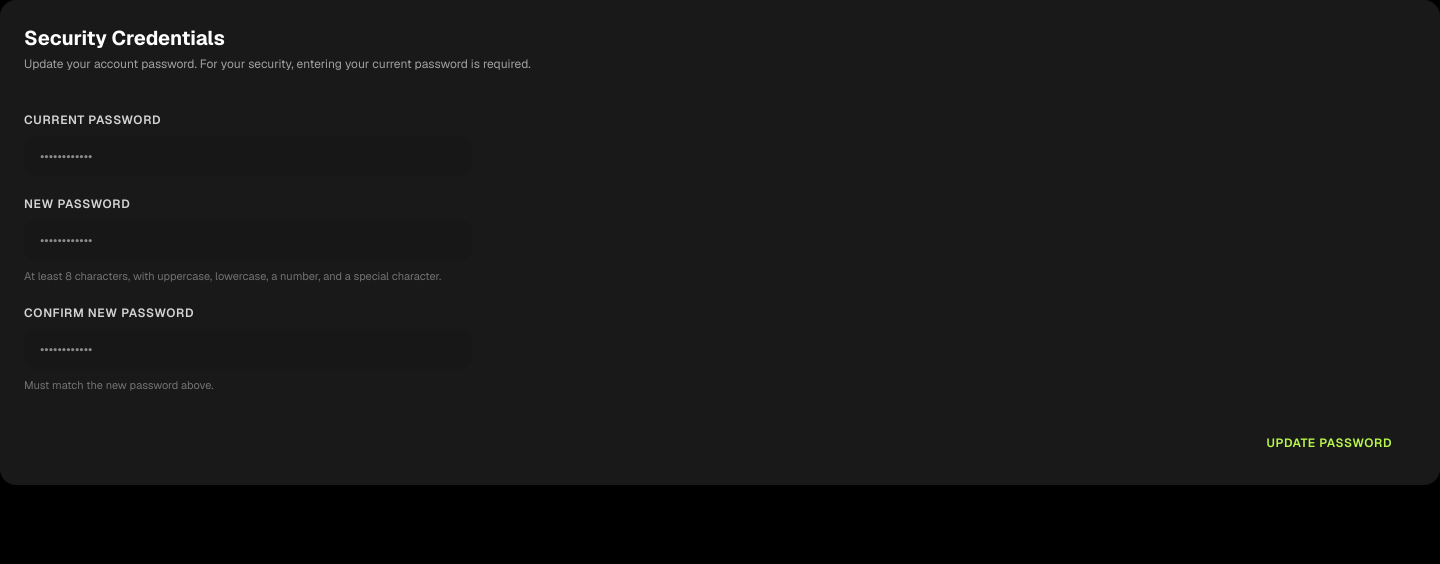
Scenario: ProfileSecuritySettings › renders error banner when updatePassword rejects
In the password field labelled "Current Password": (248, 156) x1=24 y1=136 x2=472 y2=176, type "Wrong1!"
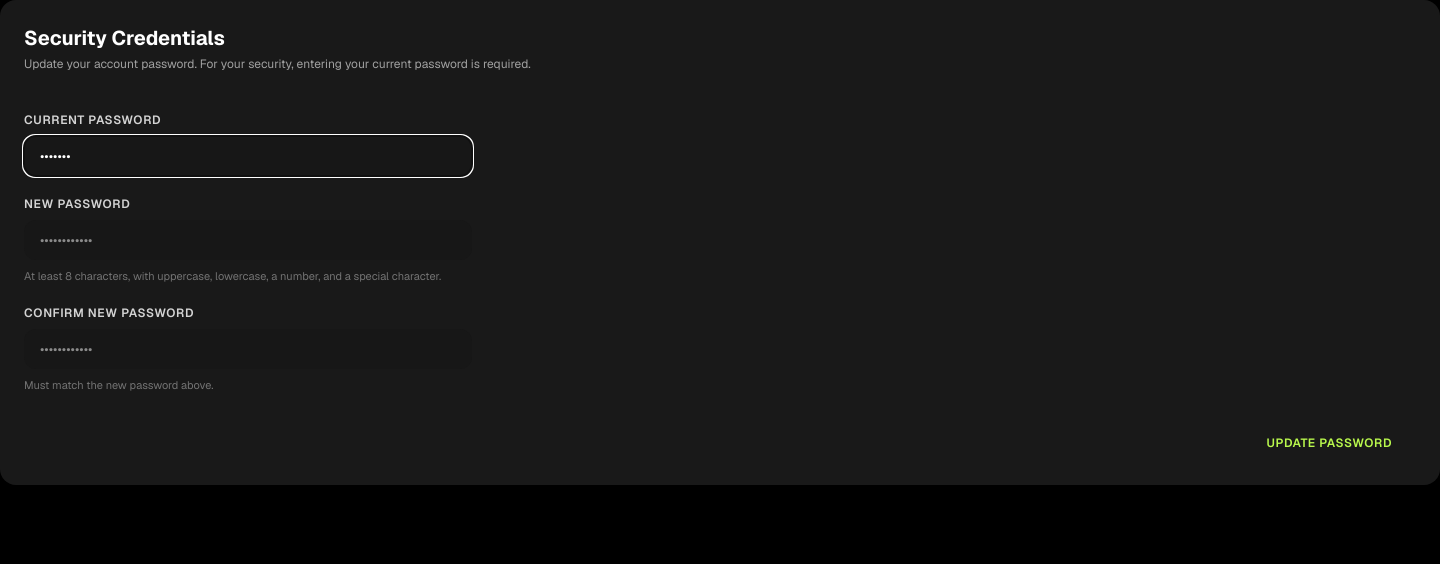
In the password field labelled "New Password": (248, 240) x1=24 y1=220 x2=472 y2=260, type "StrongPass1!"
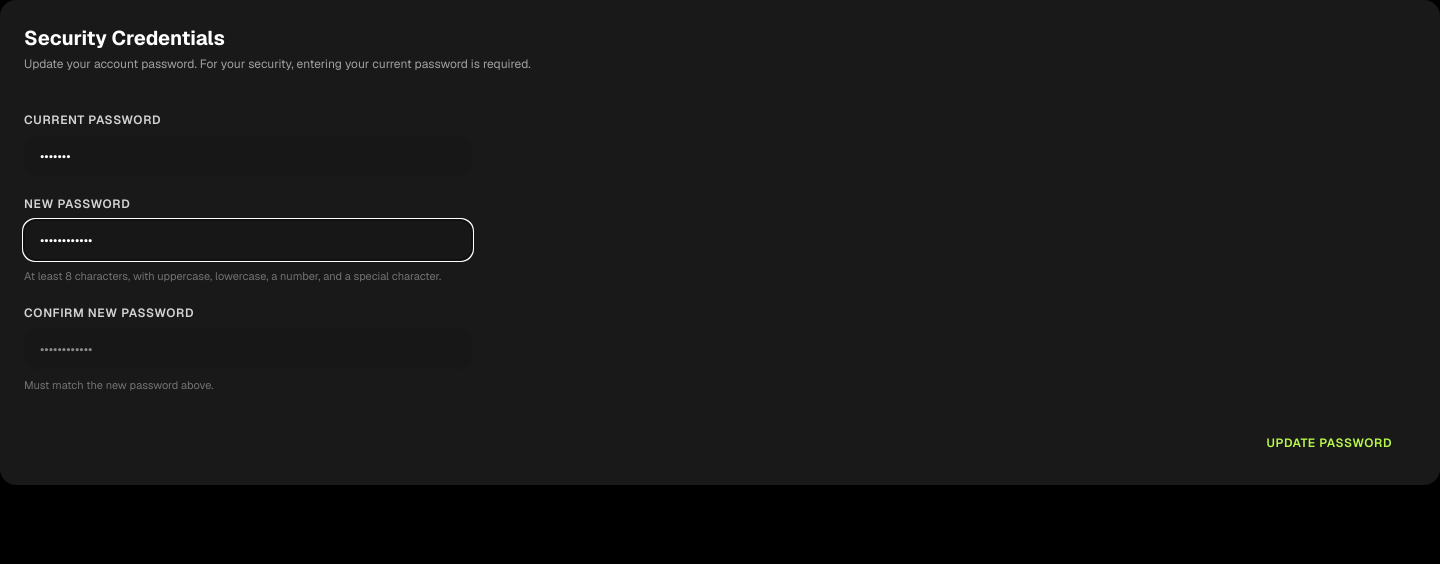
In the password field labelled "Confirm New Password": (248, 348) x1=24 y1=328 x2=472 y2=368, type "StrongPass1!"
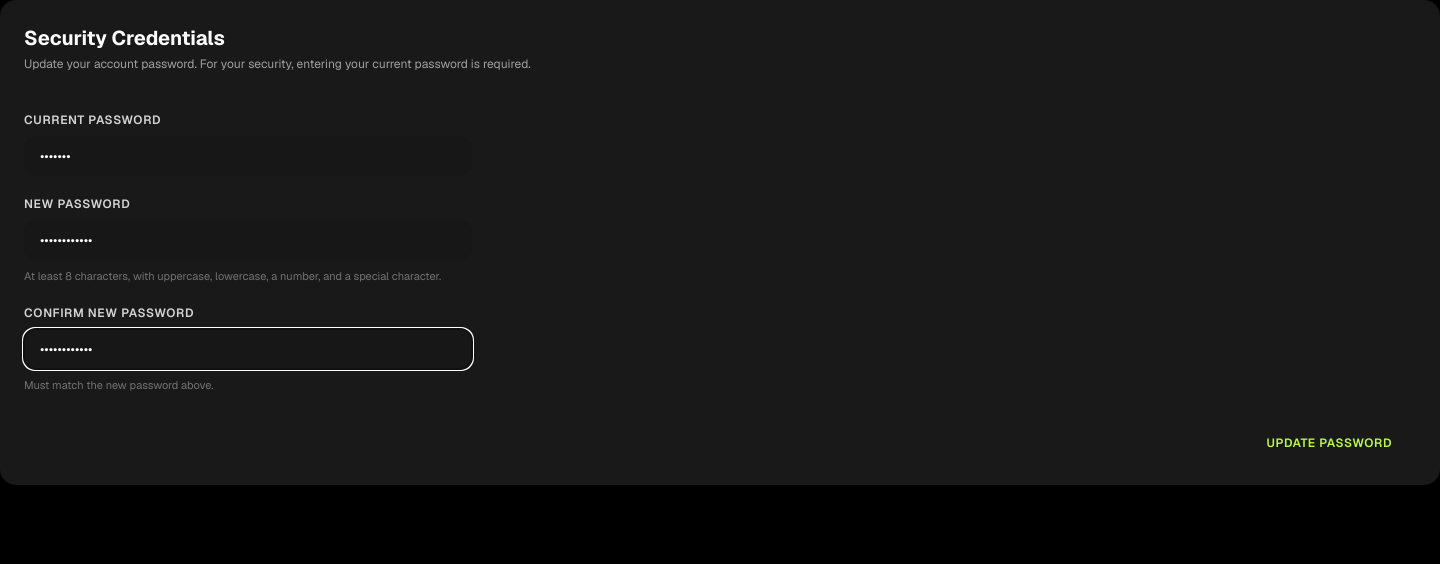
Click the button "Update Password": click(1329, 443) x1=1242 y1=425 x2=1416 y2=461
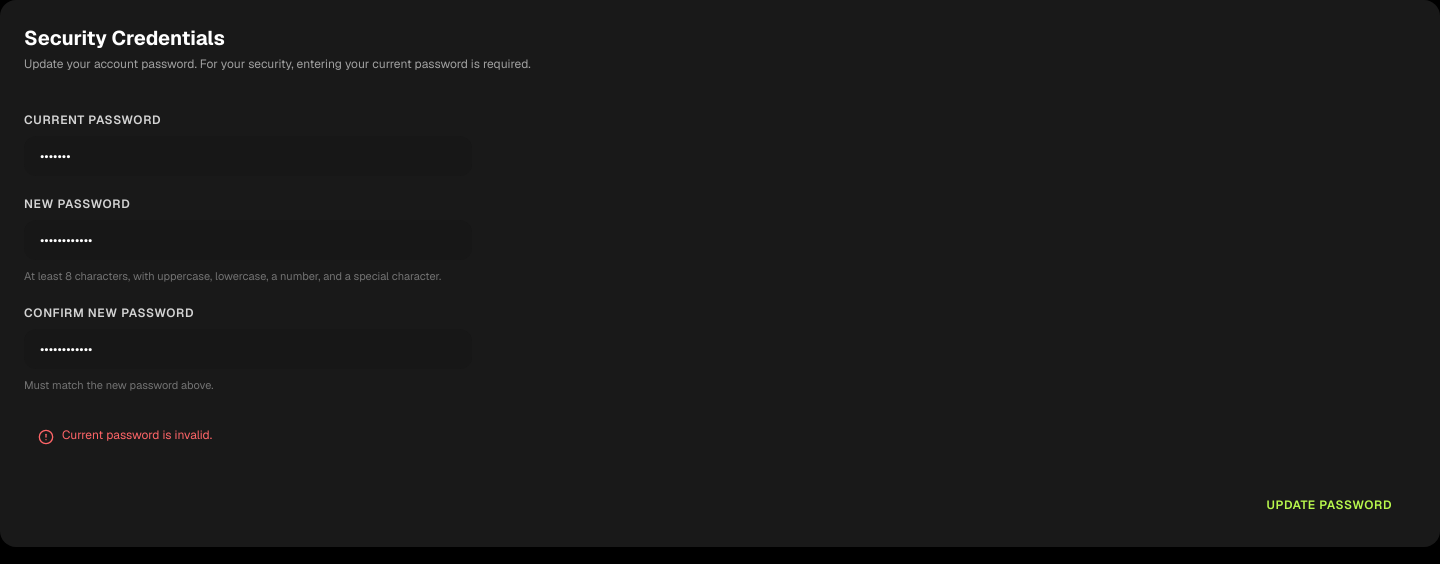
expect the text "Current password is invalid." is shown: met, box x1=62 y1=427 x2=212 y2=443
